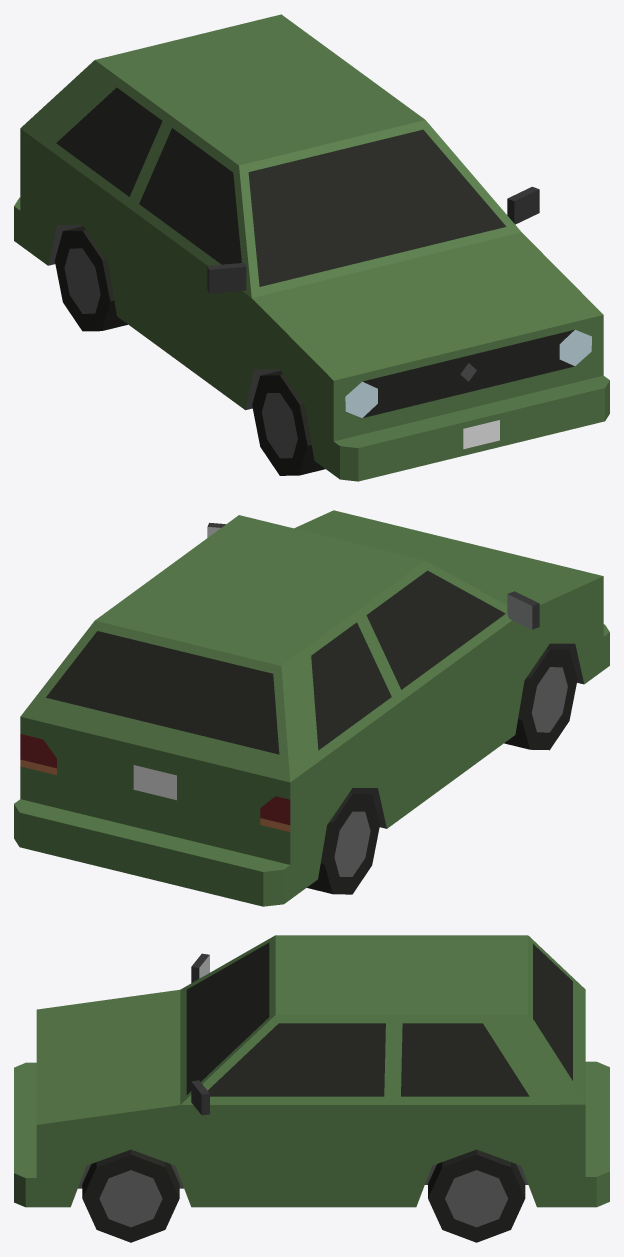
Rendered from Veh_Coupe_02_Green.glb.
3 views of the same model, one above another, from view 1: azimuth 30°, elevation 25°; view 2: azimuth 150°, elevation 25°; view 3: azimuth 270°, elevation 25° (orthographic). The views are drawn at different scales.
Parts seen in each view (by area): view 1: Coupe_02_Green, Wheel_RR, Wheel_FR; view 2: Coupe_02_Green, Wheel_RR, Wheel_FR; view 3: Coupe_02_Green, Wheel_FL, Wheel_RL.
Boxes of the visible parts, x1,y1,x2,y2 form: Coupe_02_Green: (14, 14, 609, 481); Wheel_RR: (55, 226, 127, 331); Wheel_FR: (252, 370, 325, 475); Coupe_02_Green: (14, 510, 609, 906); Wheel_RR: (307, 789, 380, 894); Wheel_FR: (504, 645, 577, 750); Coupe_02_Green: (14, 935, 609, 1207); Wheel_FL: (82, 1149, 179, 1242); Wheel_RL: (428, 1149, 525, 1242).
Size of the model in its own units: 1.12 by 0.78 by 2.01.
1 material, 1 textured.
